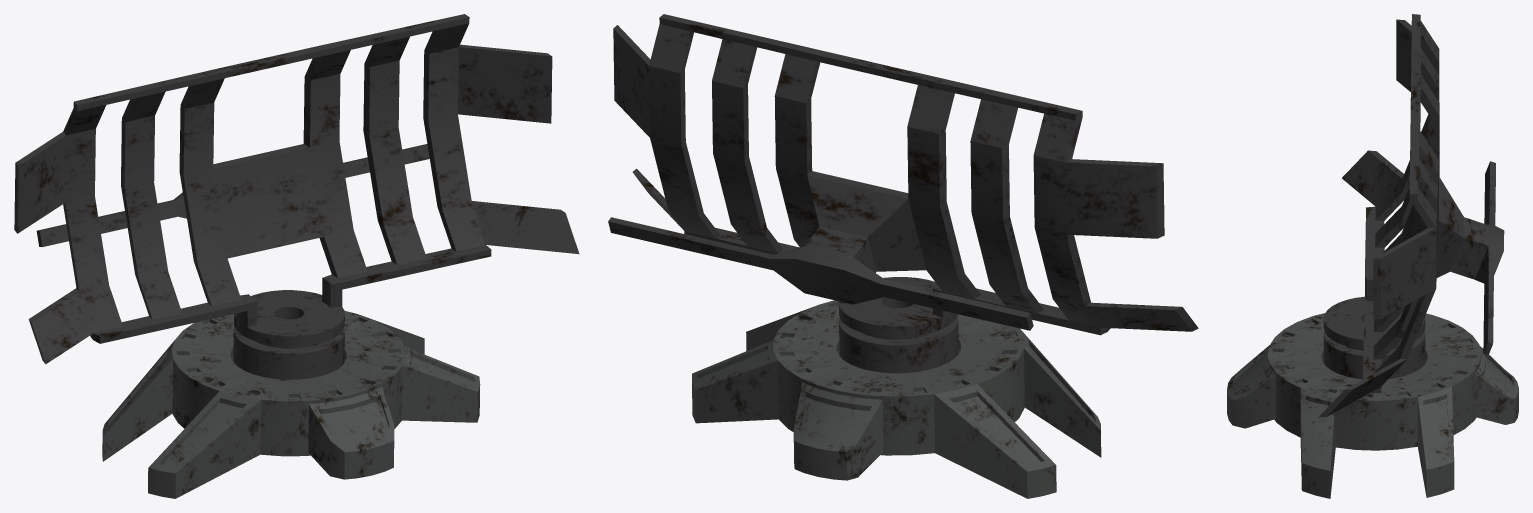
Rendered from Radar.fbx.
The picture shows the model from 3 angles, left to right: view 1: azimuth 30°, elevation 25°; view 2: azimuth 150°, elevation 25°; view 3: azimuth 270°, elevation 25°; orthographic projection. The views are drawn at different scales.
Parts seen in each view (by area): view 1: radar.001, radar hub.001; view 2: radar.001, radar hub.001; view 3: radar.001, radar hub.001.
Part boxes in pixels (bbox=[...]): radar.001: bbox=[14, 14, 579, 379]; radar hub.001: bbox=[102, 311, 480, 498]; radar.001: bbox=[608, 14, 1198, 373]; radar hub.001: bbox=[692, 300, 1101, 498]; radar.001: bbox=[1319, 14, 1504, 417]; radar hub.001: bbox=[1227, 313, 1518, 498].
Size of the model in its own units: 736 by 486 by 389.
Materials: 1 (1 with a texture image).
